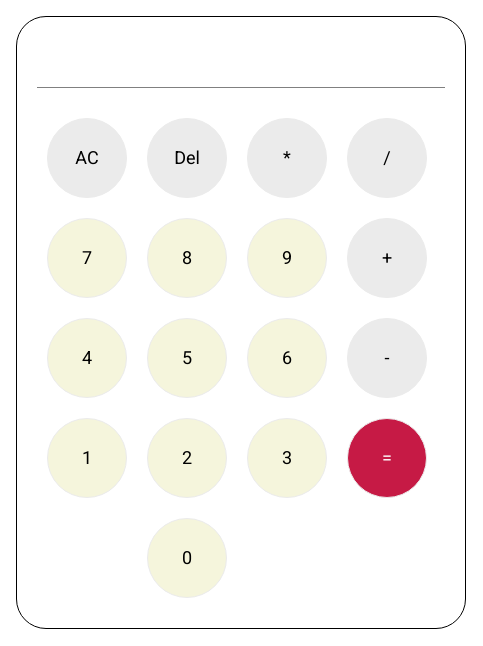
Test case: Test Application › Should input text on button clicks
This screenshot has width=483, height=646.
Expected: the field with test id "screen-input" is empty, [37, 36, 445, 88]
Click the button "2": (187, 458) [147, 418, 227, 498]
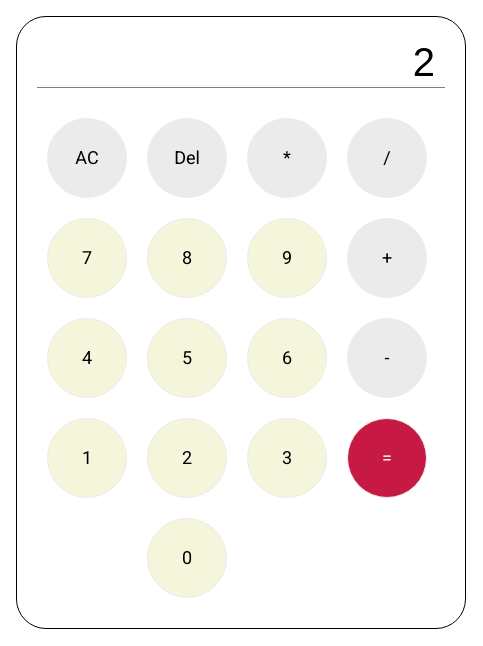
Click the button "+": (387, 258) [347, 218, 427, 298]
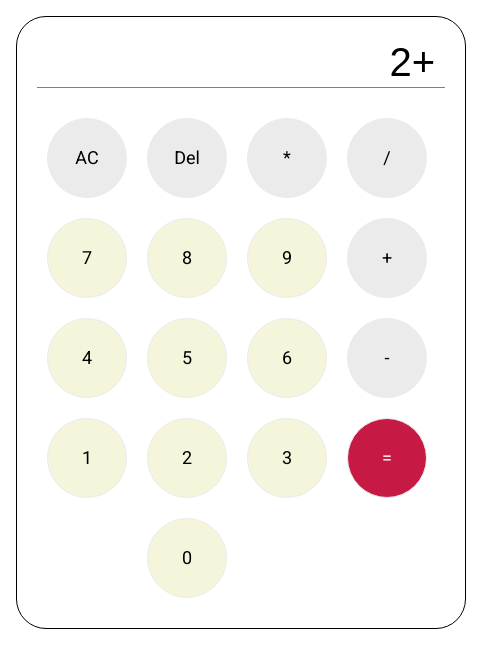
Click the button "2": (187, 458) [147, 418, 227, 498]
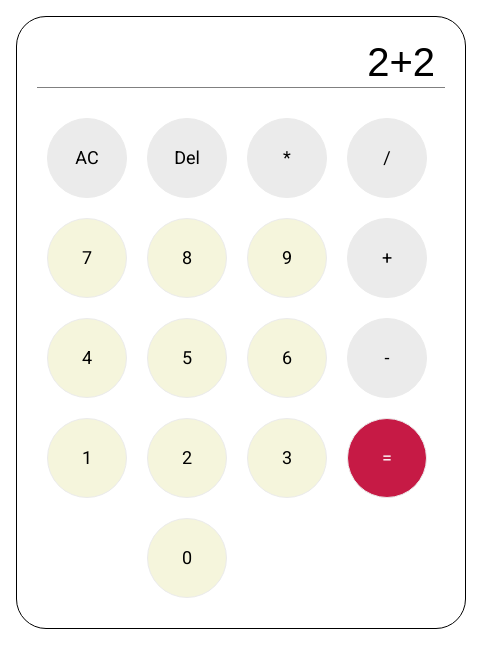
Click the button "*": (287, 158) [247, 118, 327, 198]
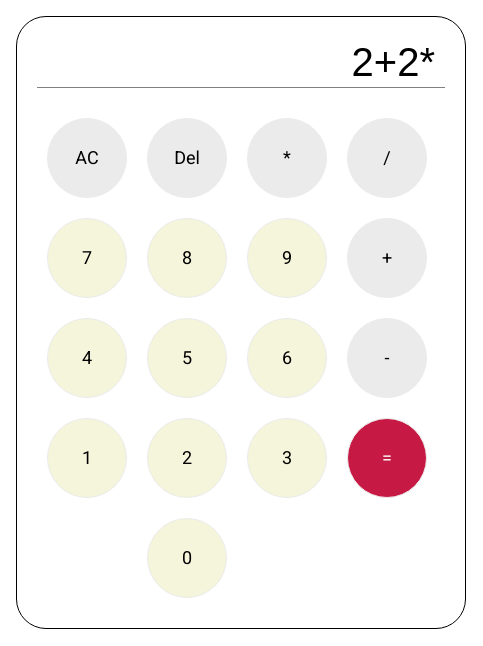
Click the button "2": (187, 458) [147, 418, 227, 498]
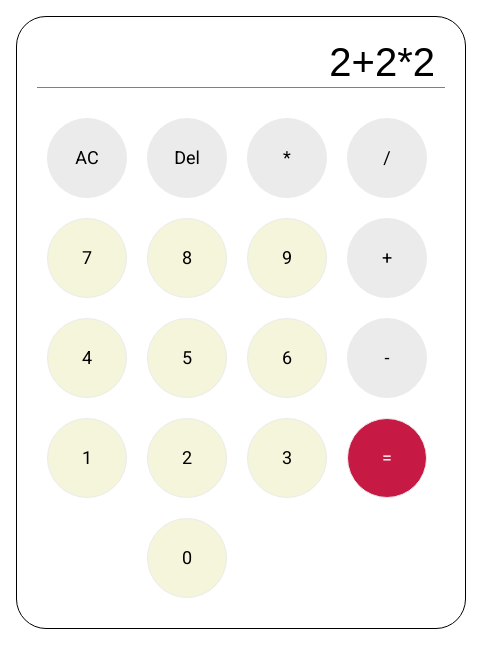
Now the field holds "2+2*2", box [37, 36, 445, 88]
